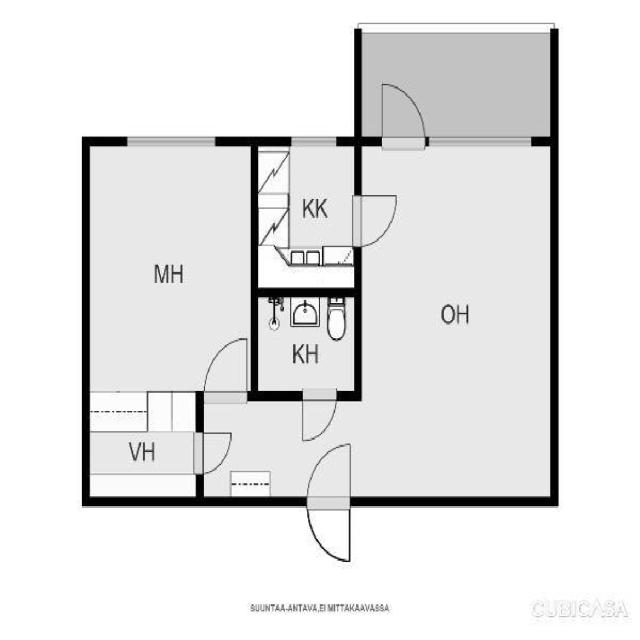door: (307, 440, 353, 568), (202, 325, 253, 403), (377, 78, 428, 151), (350, 190, 404, 250), (295, 388, 338, 444), (193, 430, 242, 478)
window: (423, 127, 538, 149), (121, 130, 228, 150), (284, 129, 345, 146)
zone: (358, 139, 555, 501), (84, 141, 255, 396), (252, 139, 358, 295), (83, 387, 201, 501), (246, 293, 357, 394)
